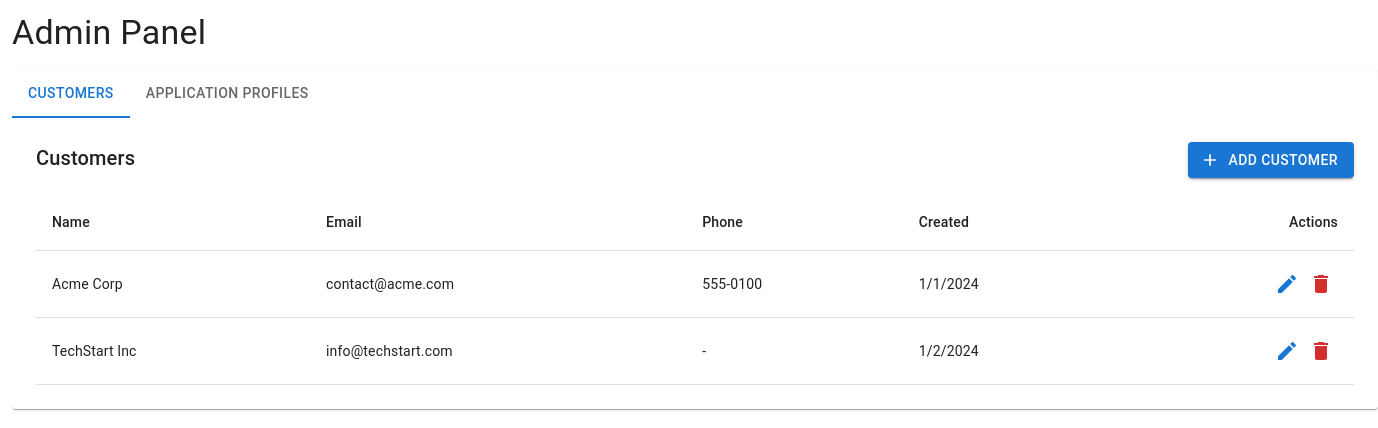
Scenario: AdminView › shows empty state for application profiles
Click the tab "Application Profiles": {"x": 227, "y": 94} [130,70,325,118]
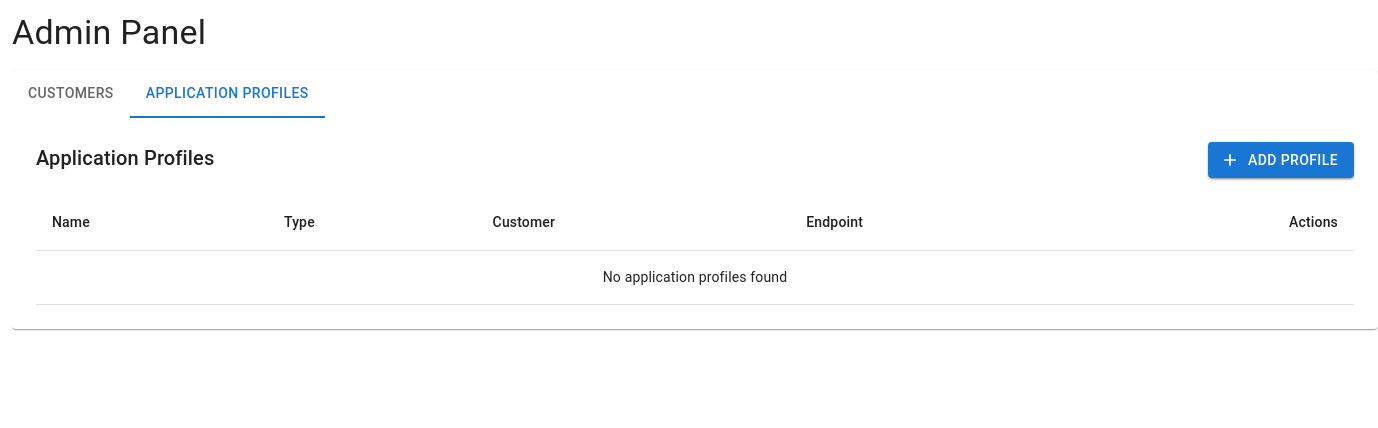
Check: the text "No application profiles found" is shown, box [36,251,1354,304]
